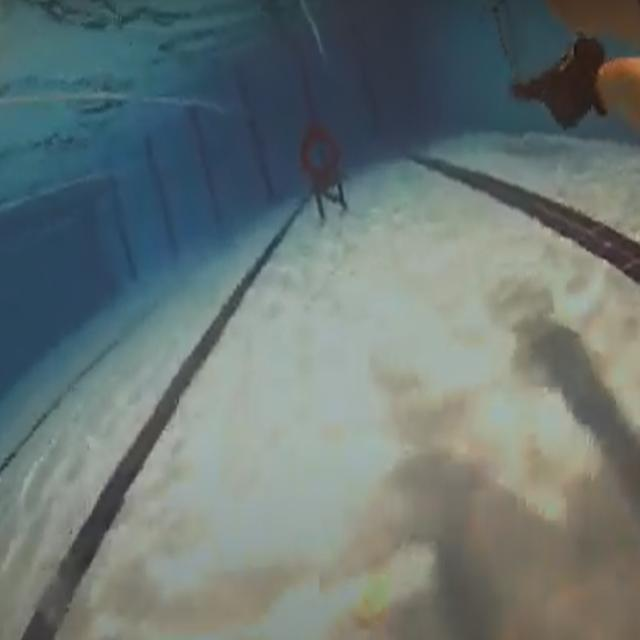Circle: (298, 127, 344, 182)
